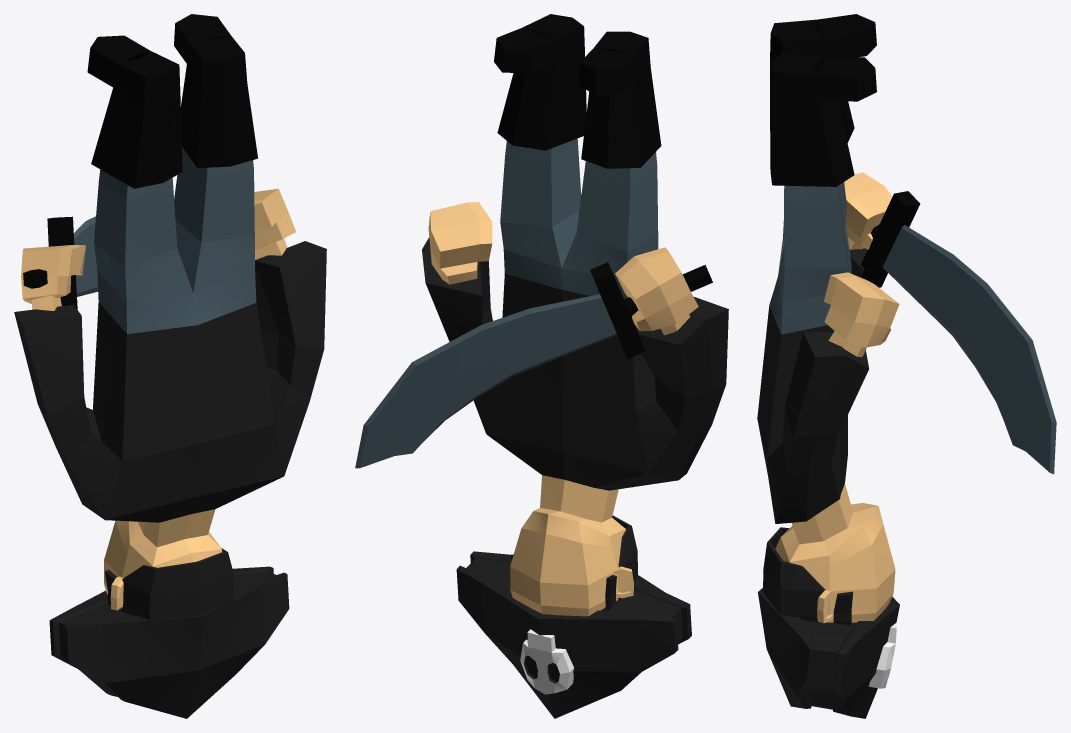
The model's file is Pirate.dae.
3 renders of one model, left to right at view 1: azimuth 30°, elevation 25°; view 2: azimuth 150°, elevation 25°; view 3: azimuth 270°, elevation 25°, orthographic.
Parts seen in each view (by area): view 1: Pirate; view 2: Pirate; view 3: Pirate.
Part boxes in pixels (box(x1,y1,x2,y2)): Pirate: box(14, 14, 326, 718); Pirate: box(355, 14, 728, 718); Pirate: box(757, 14, 1056, 718).
Bounding box in the file's own units: 0.4789 × 0.4081 × 1.01.
